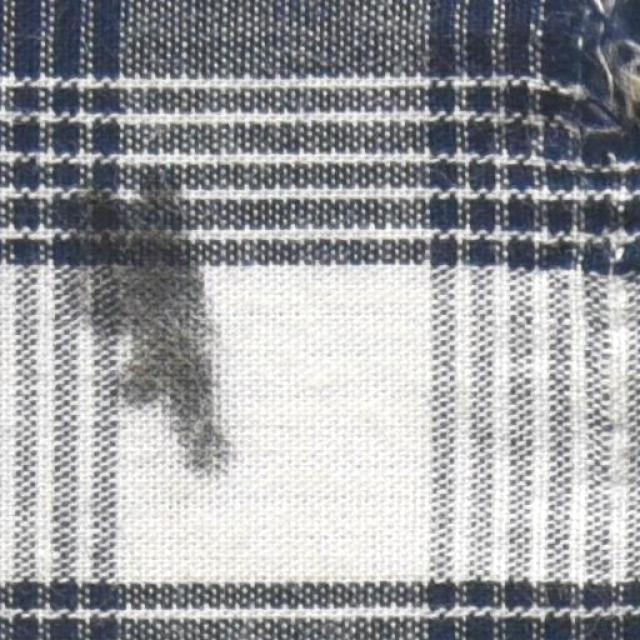Snag: (551, 2, 639, 203)
Stain: (38, 159, 235, 475)
